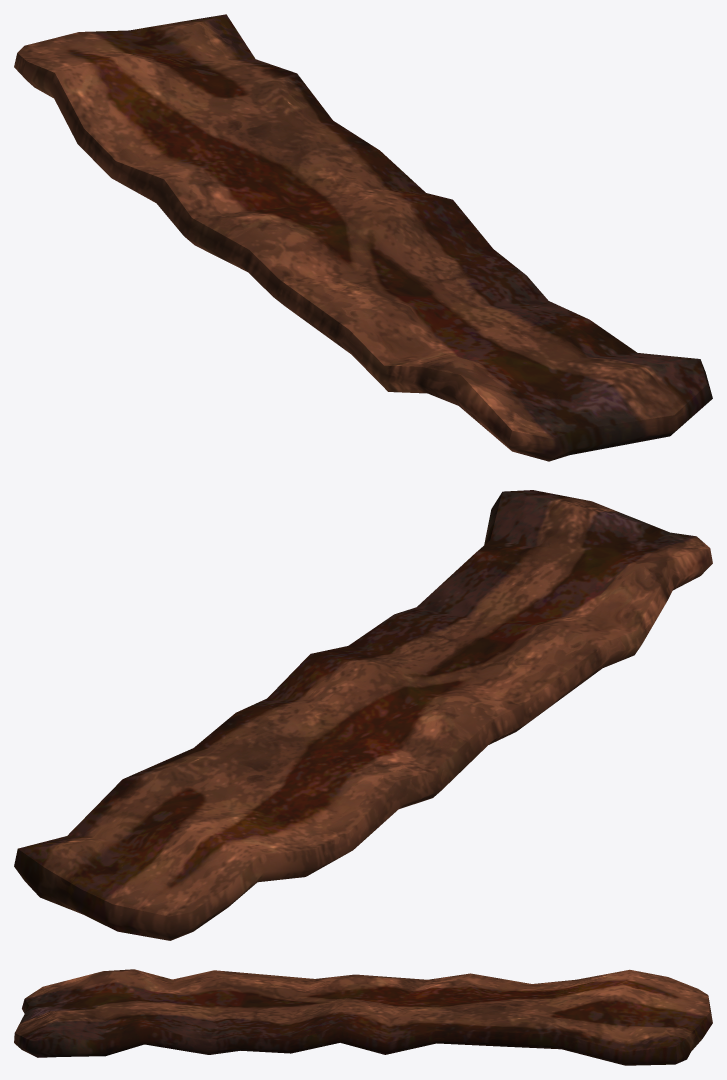
The model's file is SM_BaconBurnt.glb.
3 views of the same model, one above another, from view 1: azimuth 30°, elevation 25°; view 2: azimuth 150°, elevation 25°; view 3: azimuth 270°, elevation 25° (orthographic). The views are drawn at different scales.
Parts seen in each view (by area): view 1: SM_BaconBurnt; view 2: SM_BaconBurnt; view 3: SM_BaconBurnt.
Part boxes in pixels (x1,y1,x2,y2): SM_BaconBurnt: (14, 14, 712, 461); SM_BaconBurnt: (14, 490, 712, 940); SM_BaconBurnt: (14, 969, 712, 1065).
Bounding box in the file's own units: 0.051 × 0.0122 × 0.1977.
Materials: 1 (1 with a texture image).
